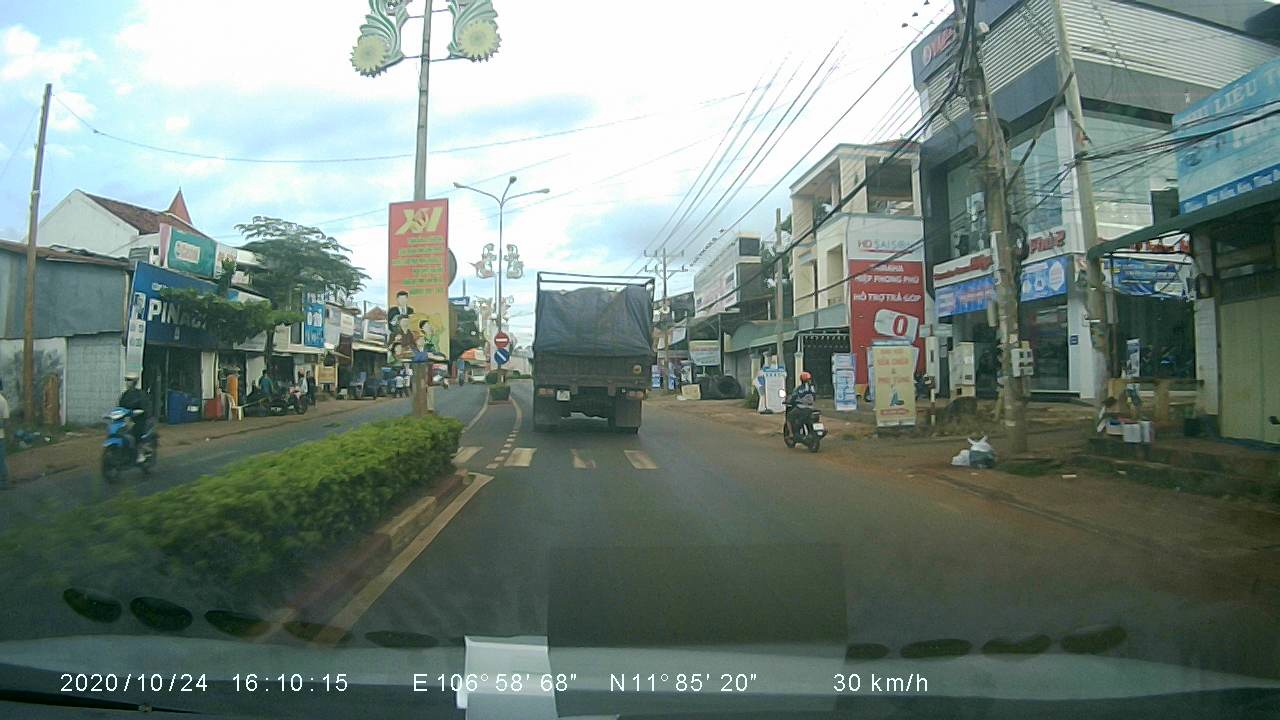Cam di nguoc chieu: (492, 329, 508, 350)
Huong di phai re phai: (494, 348, 509, 364)
